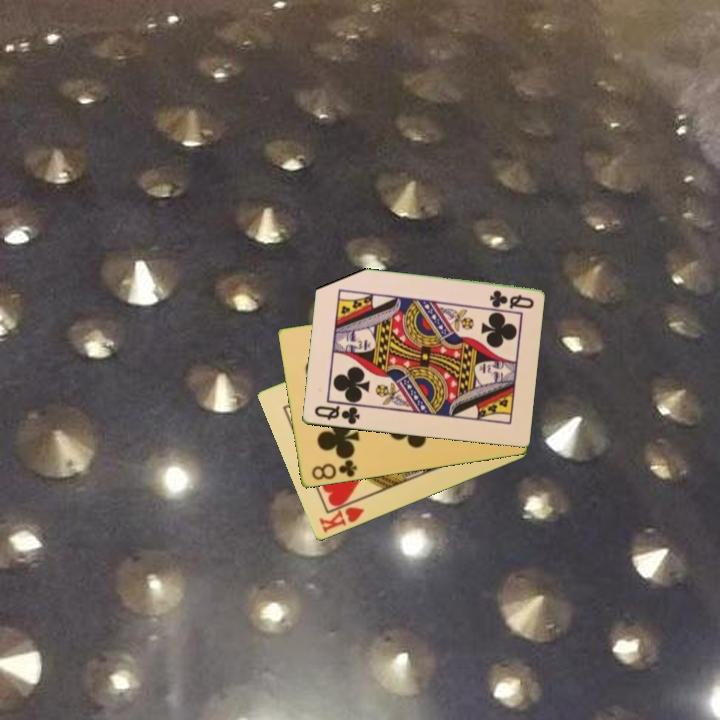8c: (308, 455, 360, 483)
Kh: (315, 496, 367, 536)
Qc: (310, 402, 362, 427), (486, 287, 537, 312)
